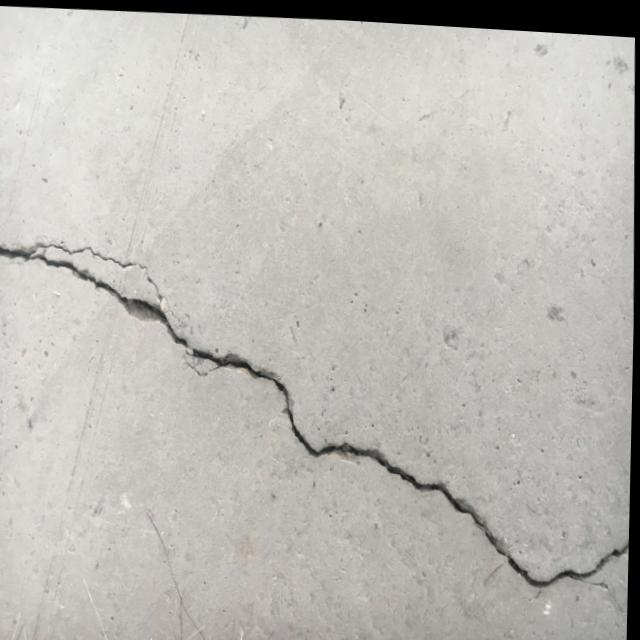Crack: (313, 431, 547, 588), (160, 324, 321, 462), (0, 222, 172, 339), (539, 518, 631, 592)
